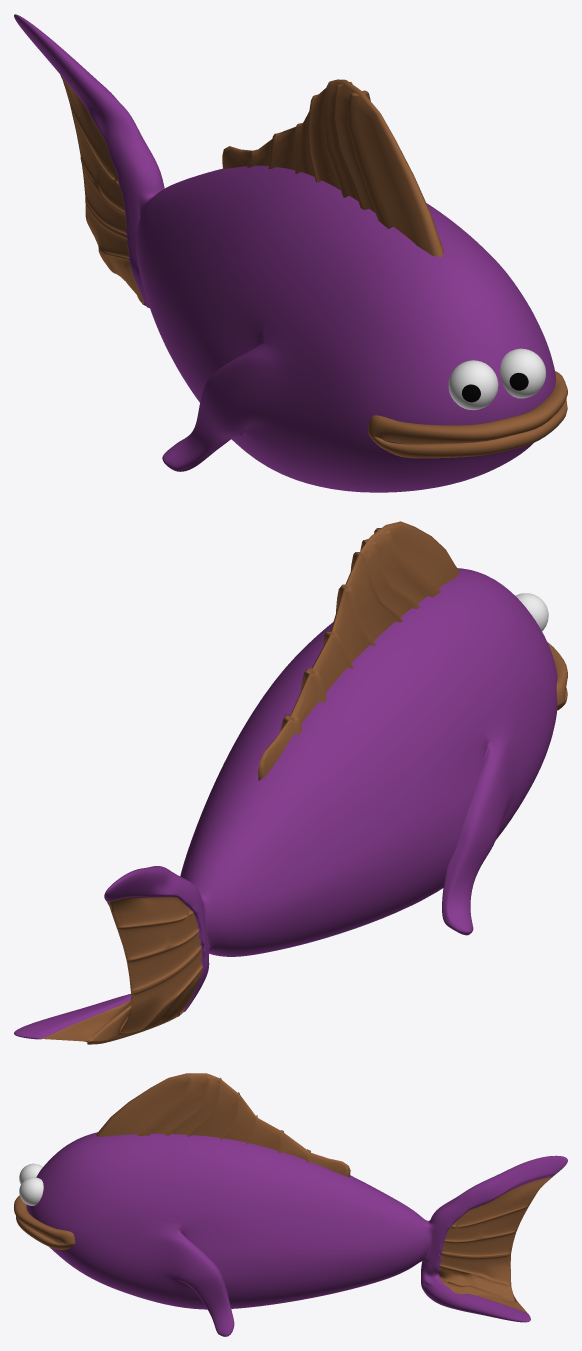
The model's file is salmonad.glb.
The picture shows the model from 3 angles, top to bottom: view 1: azimuth 30°, elevation 25°; view 2: azimuth 150°, elevation 25°; view 3: azimuth 270°, elevation 25°; orthographic projection. The views are drawn at different scales.
Visible parts, largest first — view 1: 立方体.001, 背ビレ, Cube.009, Eyes_R, Eyes_L; view 2: 立方体.001, 背ビレ; view 3: 立方体.001, 背ビレ, Cube.009, Eyes_L.
Boxes of the visible parts, x1=… form: 立方体.001: x1=14, y1=14, x2=555, y2=492; 背ビレ: x1=222, y1=79, x2=443, y2=257; Cube.009: x1=368, y1=371, x2=567, y2=458; Eyes_R: x1=448, y1=360, x2=498, y2=410; Eyes_L: x1=500, y1=348, x2=545, y2=398; 立方体.001: x1=14, y1=568, x2=557, y2=1044; 背ビレ: x1=258, y1=521, x2=459, y2=780; 立方体.001: x1=26, y1=1132, x2=567, y2=1336; 背ビレ: x1=96, y1=1073, x2=350, y2=1177; Cube.009: x1=14, y1=1195, x2=75, y2=1249; Eyes_L: x1=19, y1=1177, x2=43, y2=1205.
Size of the model in its own units: 0.3605 by 0.4481 by 1.01.
